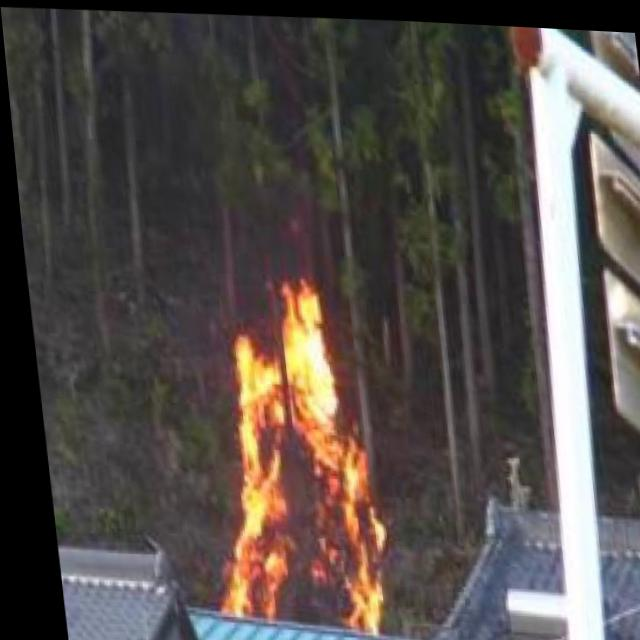Fire: (179, 264, 390, 621)
